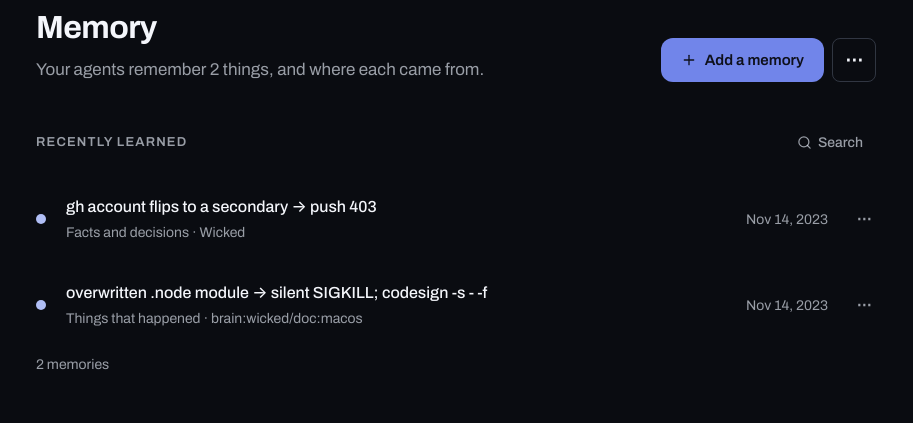
MemoryPage — the store, read honestly › a zero-hit search says so, and Clear filters restores the listing (#406)
Click the button with test id "memories-search-open".
click(830, 142)  # box [784,122,876,162]
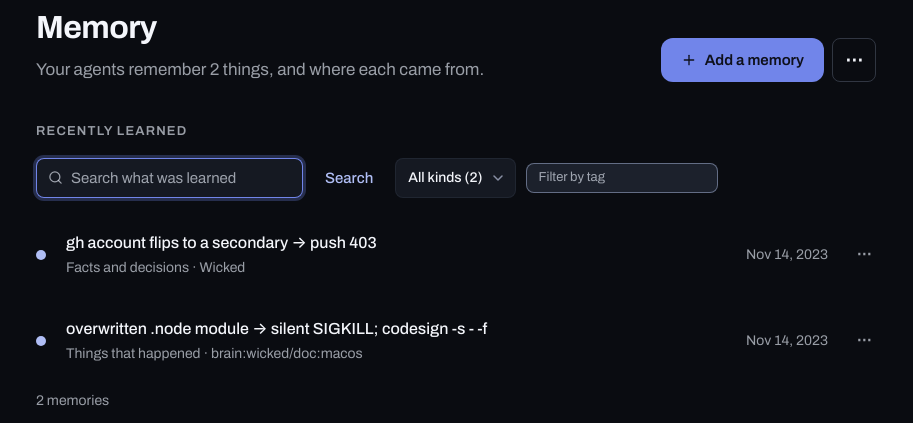
Type "quantum sigils" into the search field with test id "memories-search".
click(181, 178); type("quantum sigils")  # box [71,159,291,197]
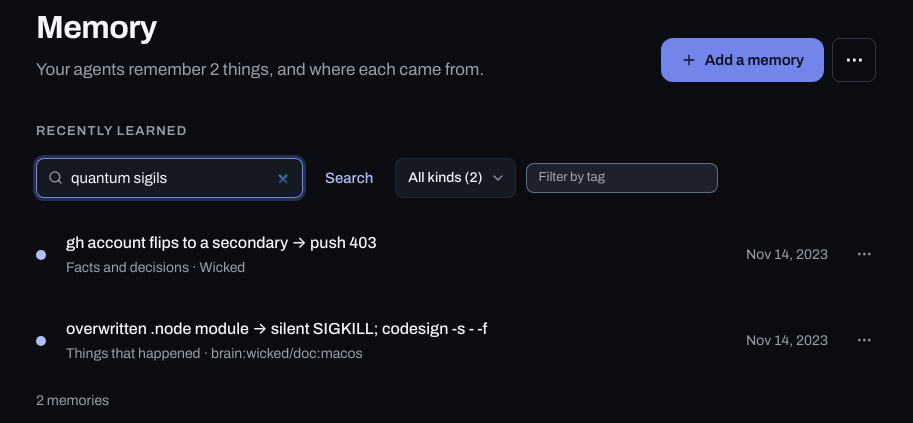
Click the button with test id "memories-search-go".
click(349, 178)  # box [313,160,385,196]
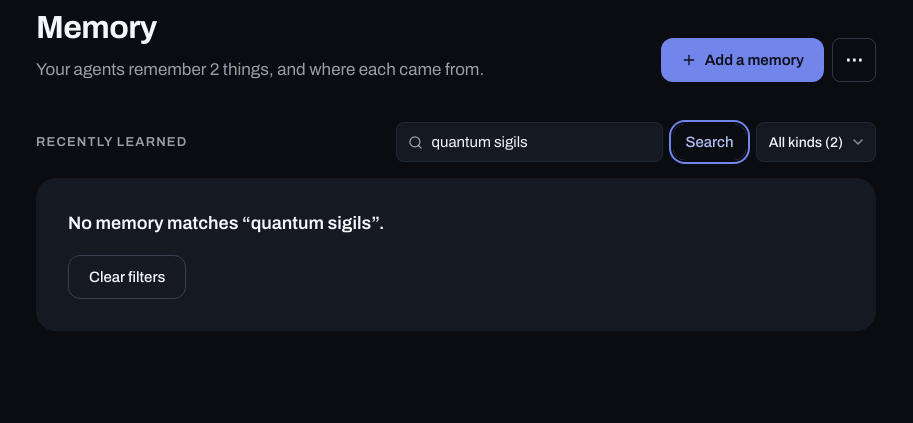
Check: the element with test id "memory-sentence" shows "Your agents remember 2 things", box [36,60,484,79]
Check: the element with test id "memories-empty" shows "No memory matches “quantum sigils”.", box [68,213,384,233]
Click the button "Clear filters".
click(127, 277)  # box [68,255,186,299]
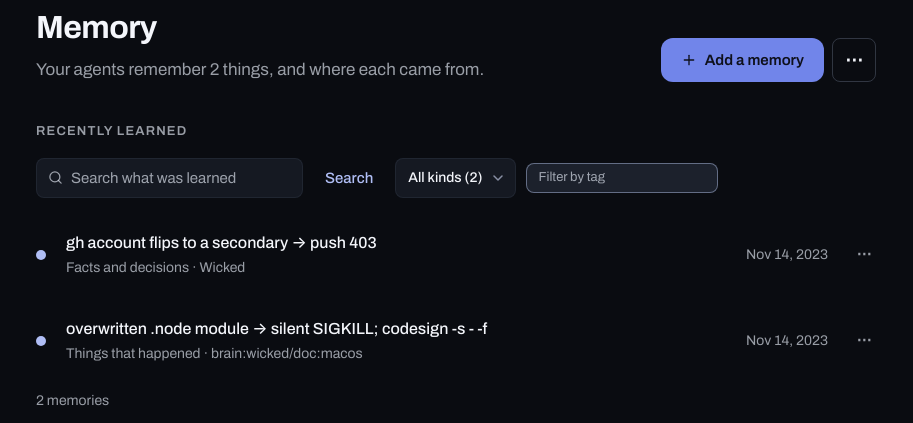
Check: the number of list items with test id "memory-row" is 2, box [16,214,896,296]; [16,300,896,382]
